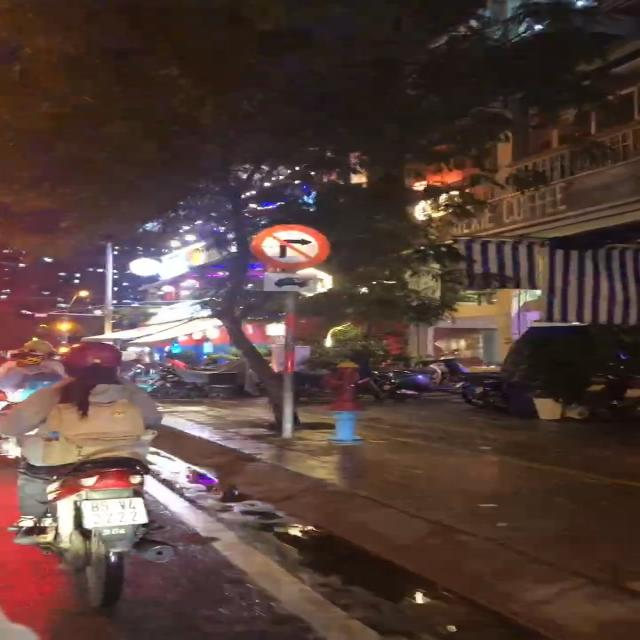Bien bao cam re phai: (244, 220, 334, 268)
